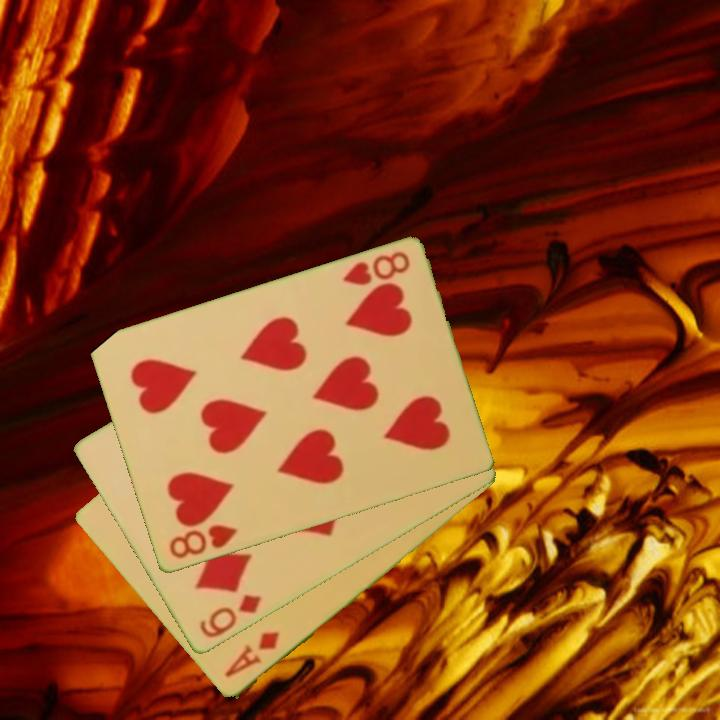6d: (196, 591, 264, 642)
8h: (165, 521, 240, 562), (339, 248, 413, 289)
Ad: (220, 628, 283, 681)
